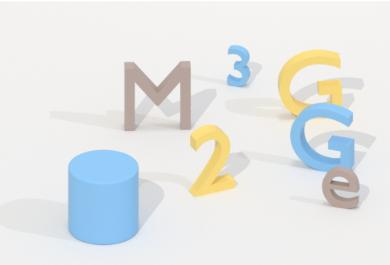0-KhoiTru: (63, 147, 144, 249)
2: (188, 121, 240, 200)
3: (223, 42, 255, 92)
G: (274, 45, 350, 121), (285, 101, 360, 174)
M: (120, 56, 194, 134)
e: (317, 163, 363, 214)
